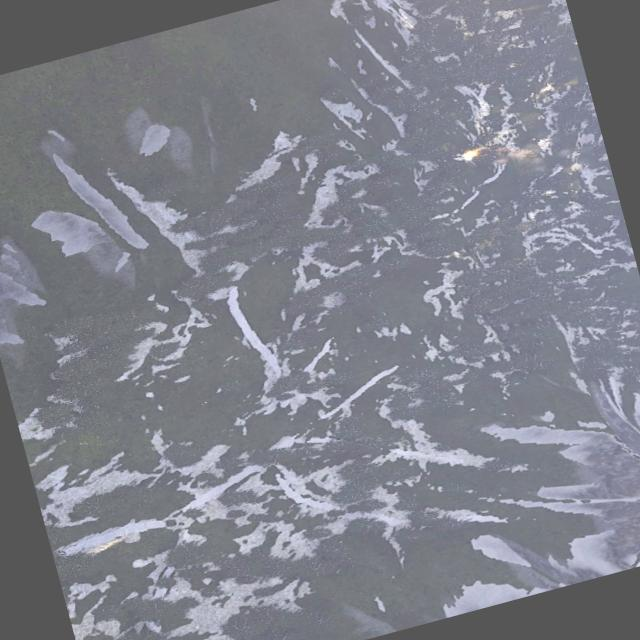fire: (459, 147, 477, 161)
smoke: (490, 124, 583, 185)
